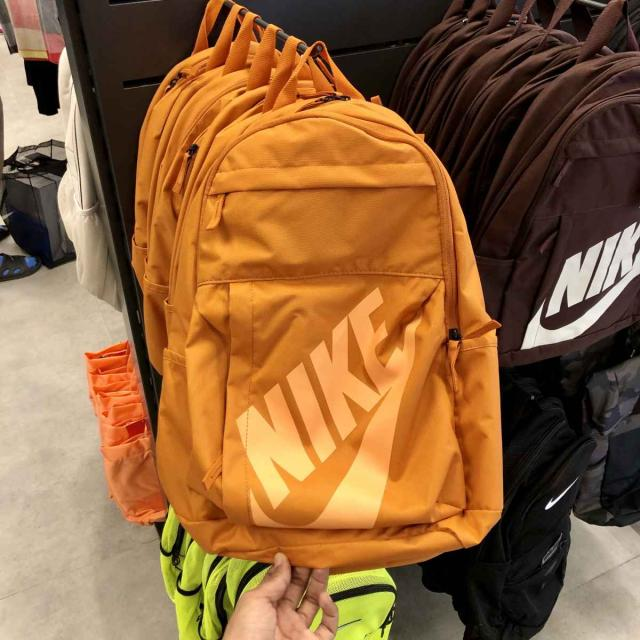handbag: (154, 98, 504, 575)
